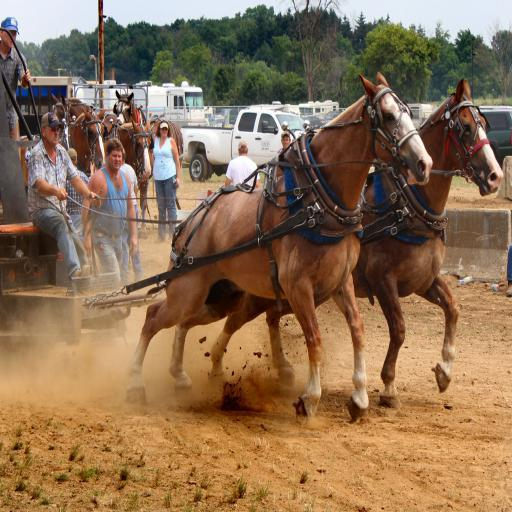Horse: (123, 69, 433, 421), (208, 75, 504, 411), (118, 118, 184, 238), (60, 106, 107, 173), (49, 91, 98, 140), (110, 90, 148, 128)
